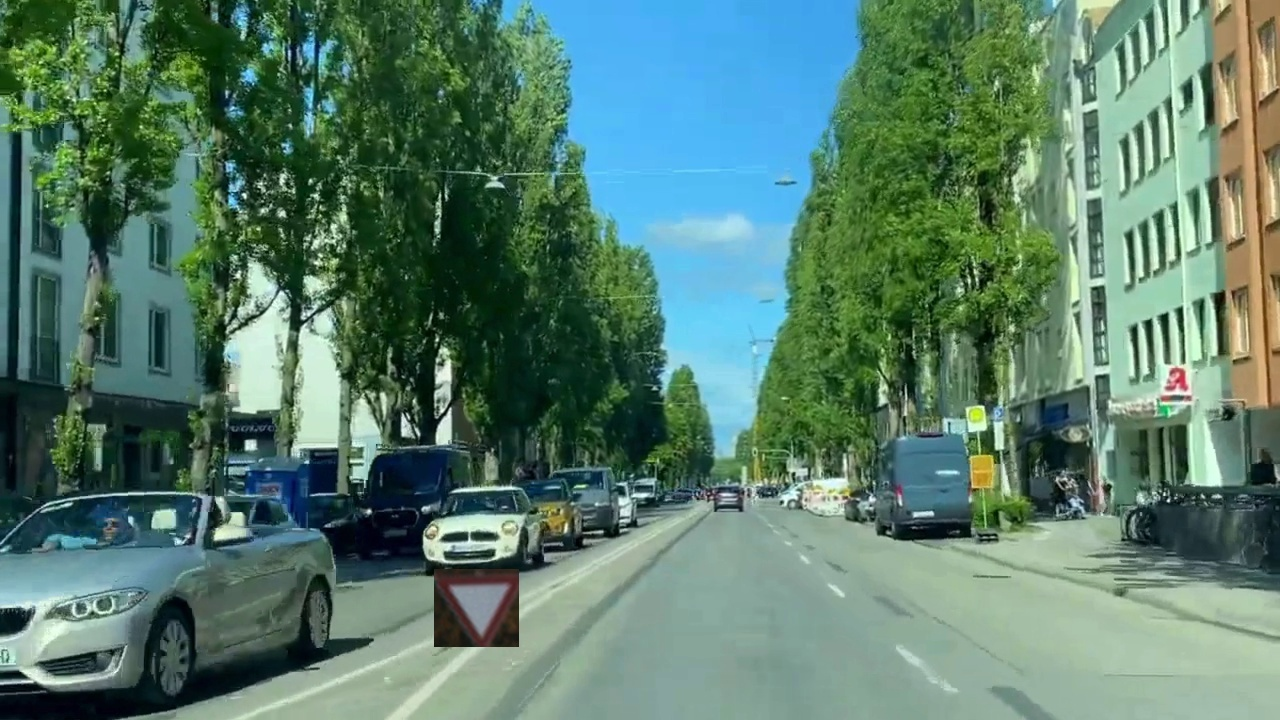Yield: (434, 569, 519, 647)
